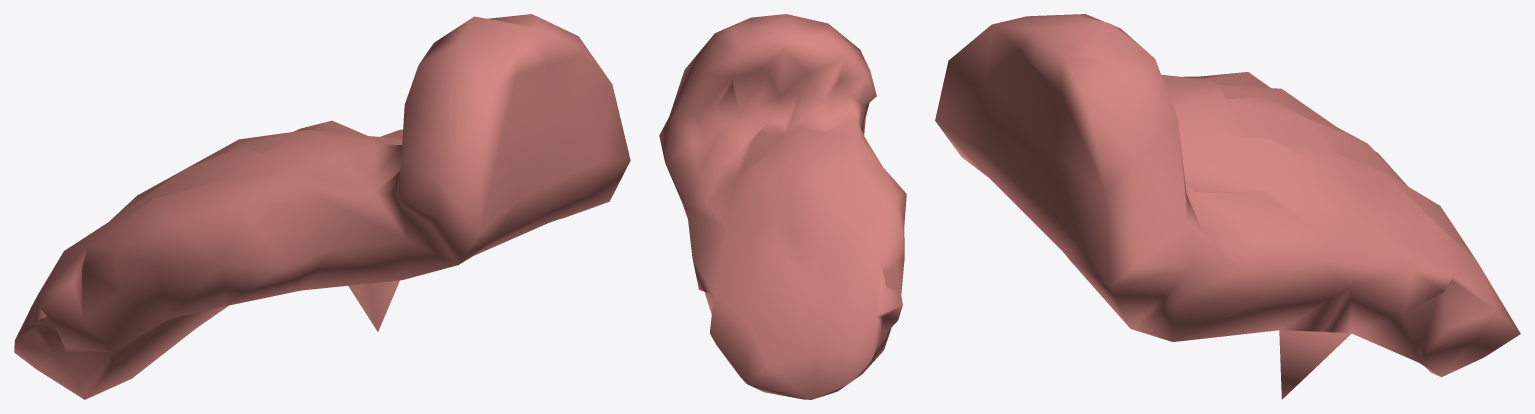
The model's file is fma48988_mm1282.glb.
3 views of the same model, side by side, from view 1: azimuth 30°, elevation 25°; view 2: azimuth 150°, elevation 25°; view 3: azimuth 270°, elevation 25° (orthographic). The views are drawn at different scales.
Visible parts, largest first — view 1: FMA48988_MM1282; view 2: FMA48988_MM1282; view 3: FMA48988_MM1282.
Part boxes in pixels (left/top/right/bottom): FMA48988_MM1282: left=14, top=14, right=630, bottom=399; FMA48988_MM1282: left=659, top=14, right=906, bottom=399; FMA48988_MM1282: left=935, top=14, right=1520, bottom=399.
Size of the model in its own units: 0.00748 by 0.0064 by 0.00769.
